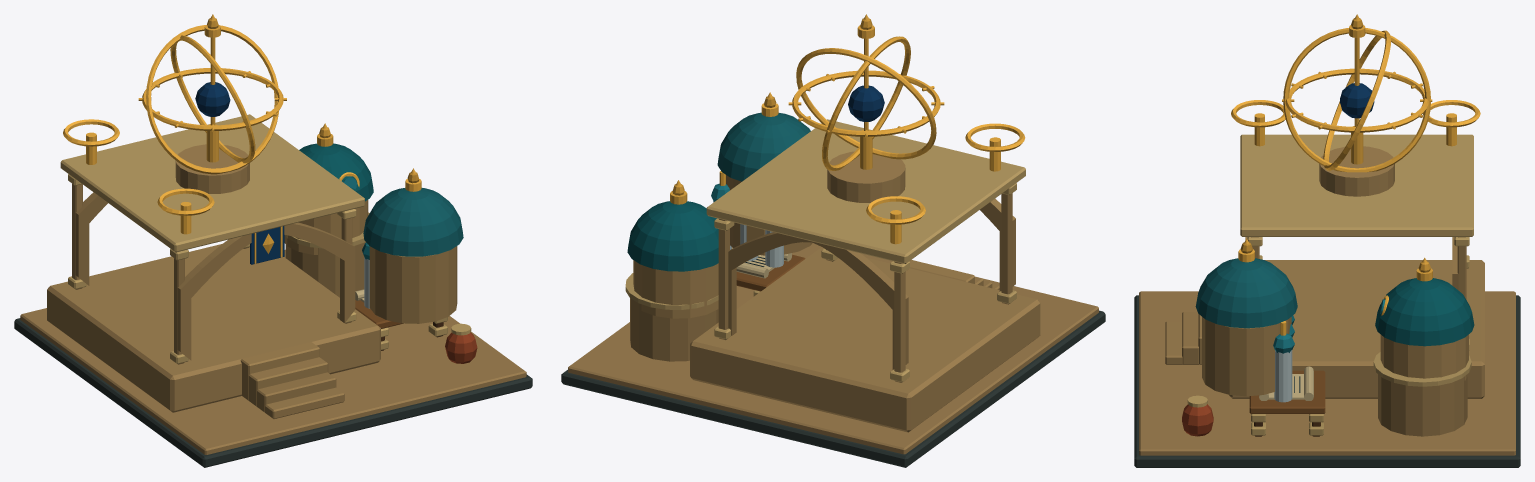
3 renders of one model, left to right at view 1: azimuth 30°, elevation 25°; view 2: azimuth 150°, elevation 25°; view 3: azimuth 270°, elevation 25°, orthographic. The views are drawn at different scales.
Visible parts, largest first — view 1: laboratory_level6_structure, laboratory_level6_metal; view 2: laboratory_level6_structure, laboratory_level6_metal; view 3: laboratory_level6_structure, laboratory_level6_metal.
Boxes of the visible parts, x1,y1,x2,y2 form: laboratory_level6_structure: [14, 18, 532, 467]; laboratory_level6_metal: [63, 14, 421, 263]; laboratory_level6_structure: [561, 18, 1105, 467]; laboratory_level6_metal: [670, 14, 1025, 244]; laboratory_level6_structure: [1134, 18, 1520, 467]; laboratory_level6_metal: [1231, 14, 1480, 335].
Bounding box in the file's own units: 5.6 × 5.61 × 5.6.
